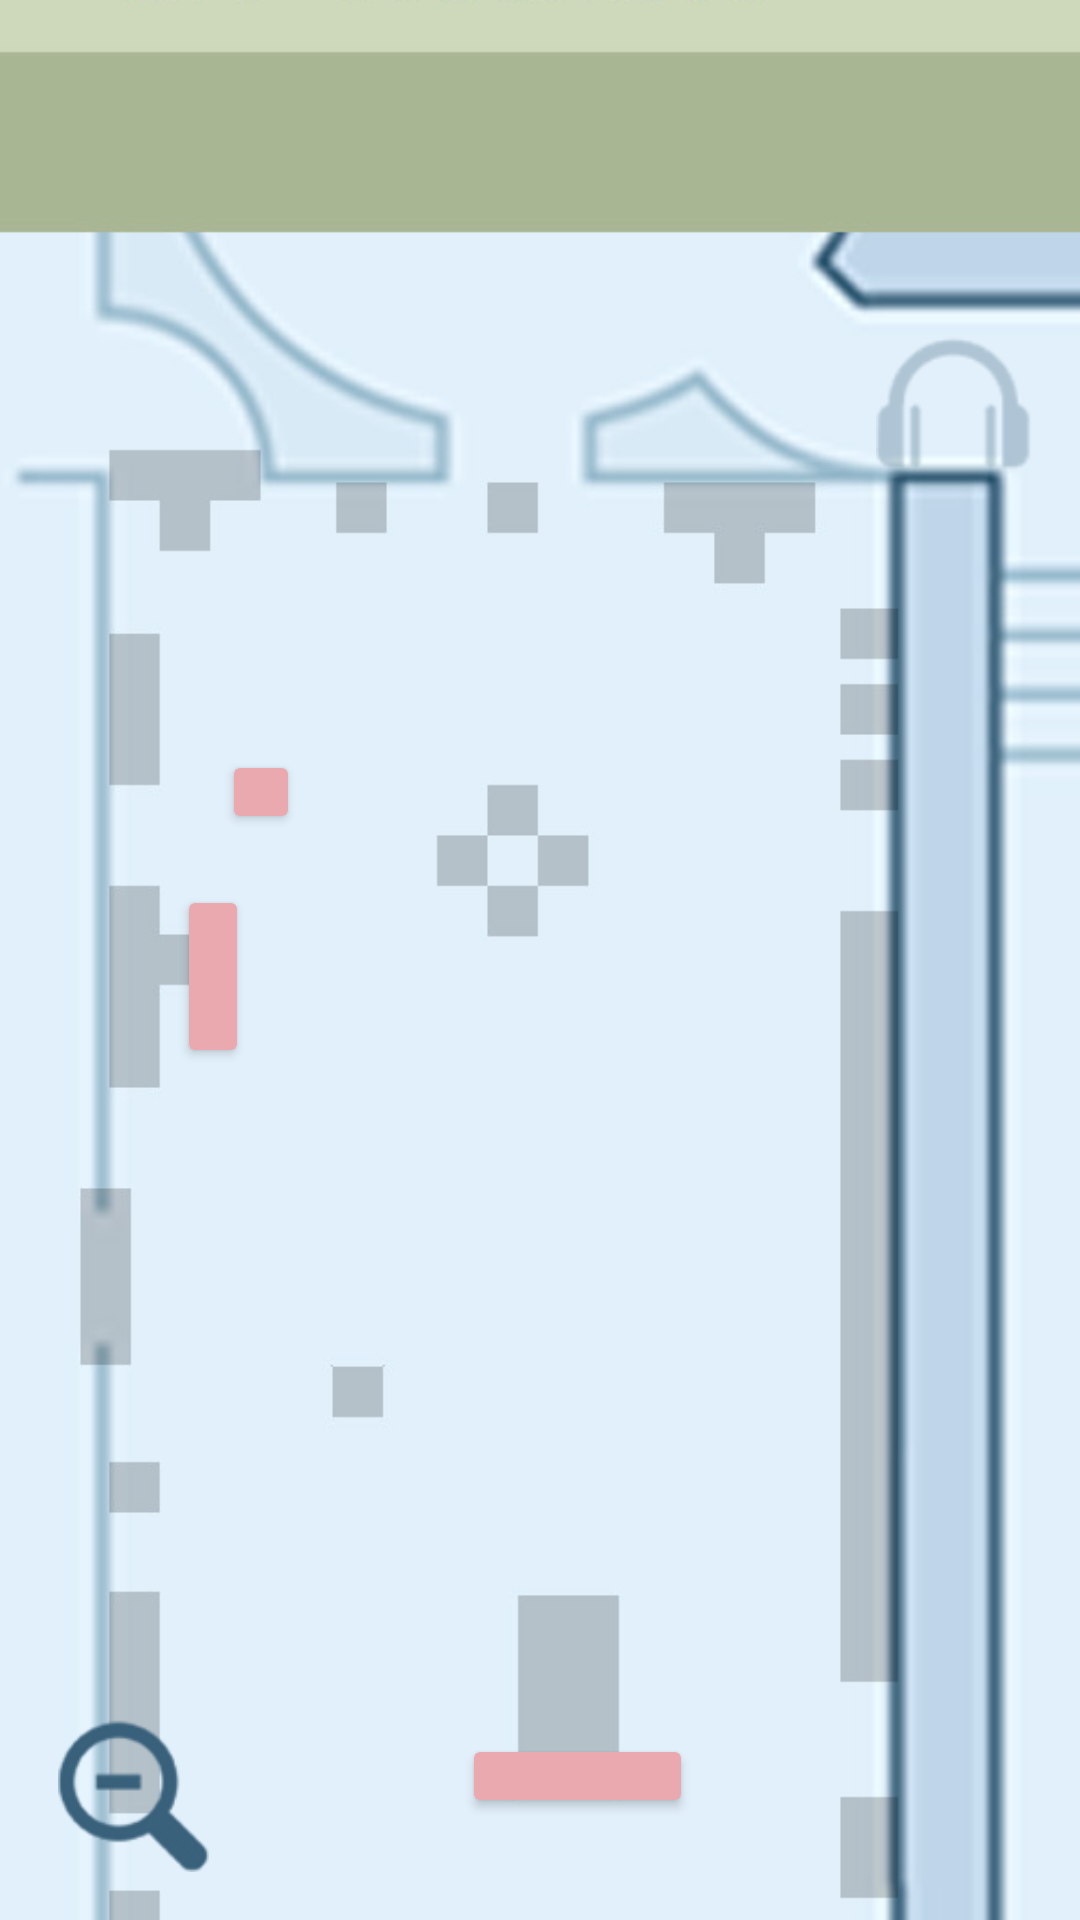

Screen size 1080 × 1920. Icon name, then its center in pixels as point (x, y):
Podcast Inactive: point (952, 405)
Zoom Out: point (133, 1795)
